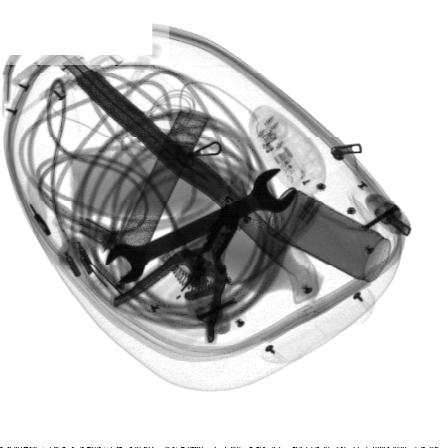Pliers: (113, 207, 238, 345)
Wrench: (106, 168, 295, 283)
